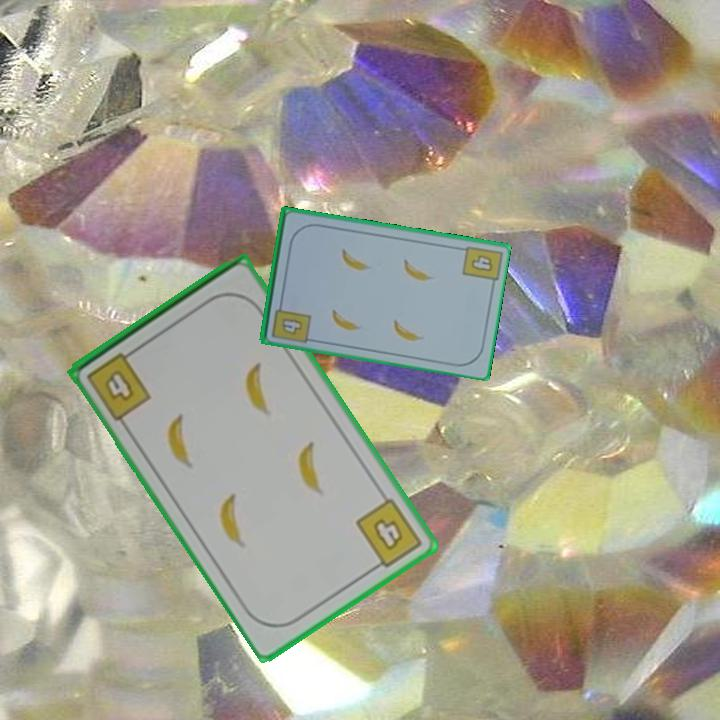4b: (352, 494, 426, 574), (83, 344, 155, 424), (268, 297, 313, 344), (468, 251, 496, 274)
